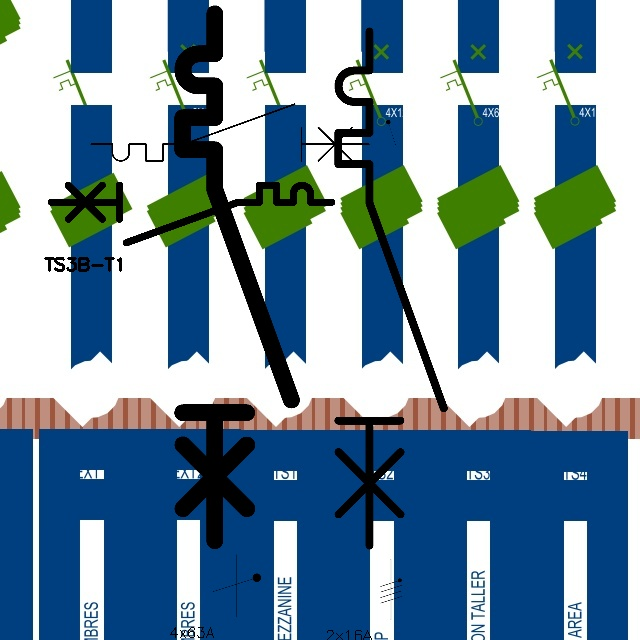interruptor_termomagnetico: (169, 0, 304, 554), (325, 18, 457, 559), (44, 178, 339, 250), (84, 97, 376, 168)
